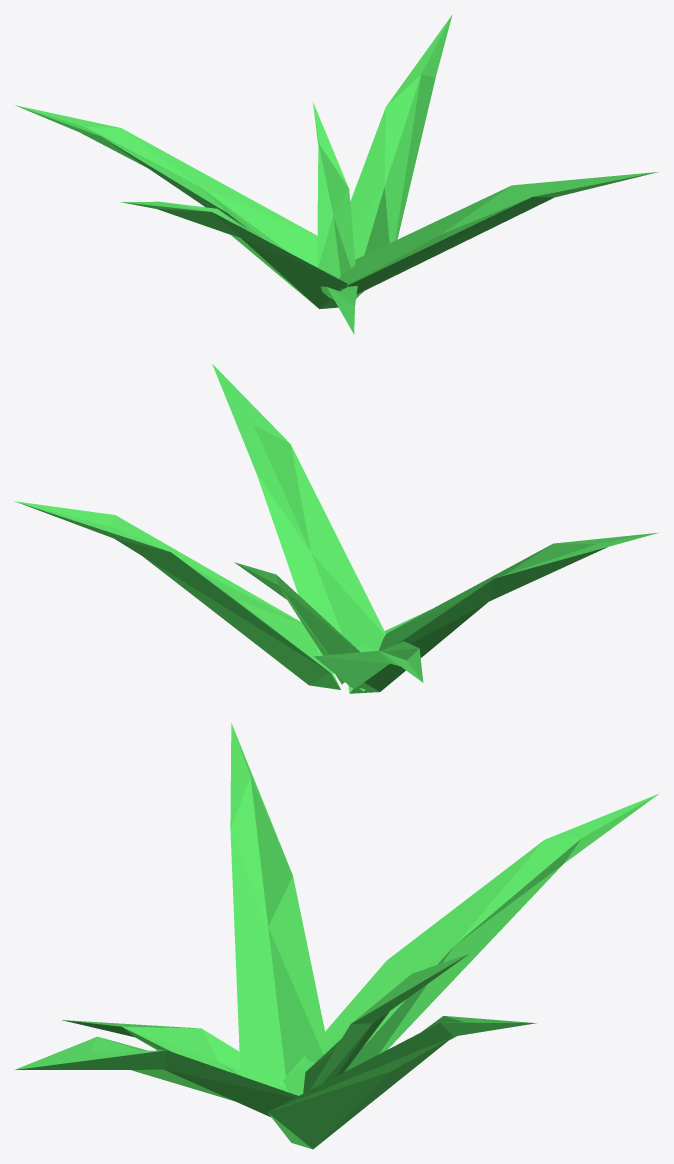
Rendered from desert_plant2.fbx.
3 views of the same model, one above another, from view 1: azimuth 30°, elevation 25°; view 2: azimuth 150°, elevation 25°; view 3: azimuth 270°, elevation 25° (orthographic). The views are drawn at different scales.
Visible parts, largest first — view 1: desert_plant2; view 2: desert_plant2; view 3: desert_plant2.
Boxes of the visible parts, x1,y1,x2,y2 form: desert_plant2: (15,14,657,334); desert_plant2: (15,364,658,693); desert_plant2: (15,723,659,1149).
Size of the model in its own units: 1.74 by 0.65 by 1.51.
